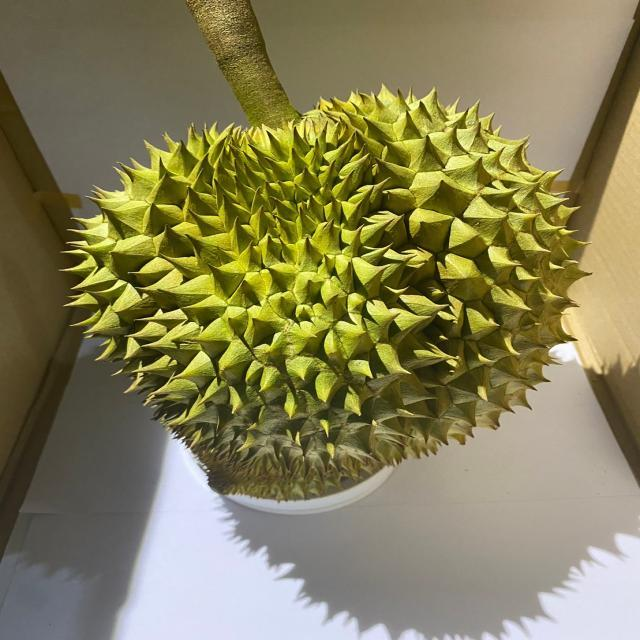immature: (58, 82, 588, 499)
